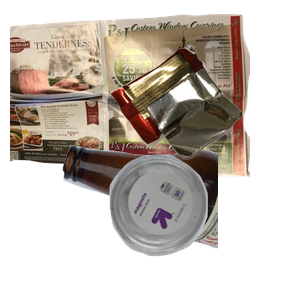glass: (60, 142, 300, 300)
paper: (10, 11, 250, 180)
plastic: (107, 152, 300, 300)
trash: (107, 46, 300, 198)
